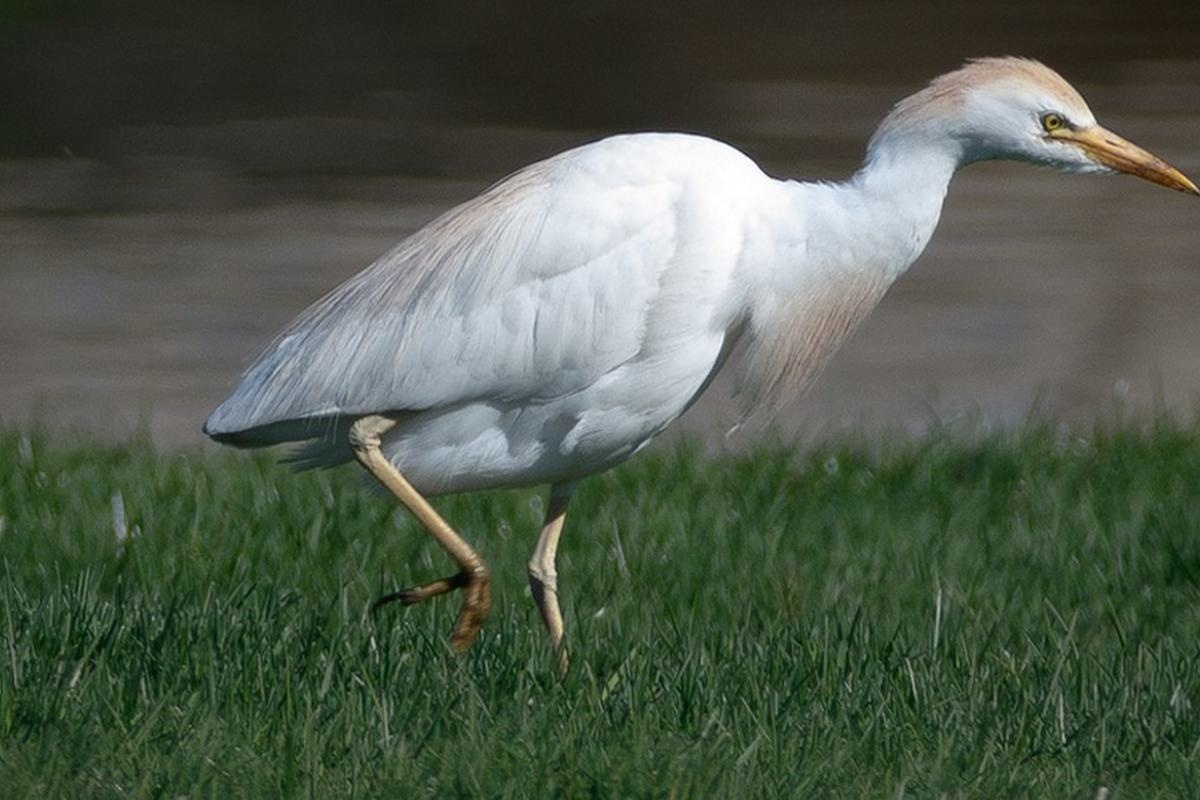egret: (188, 36, 1194, 645)
